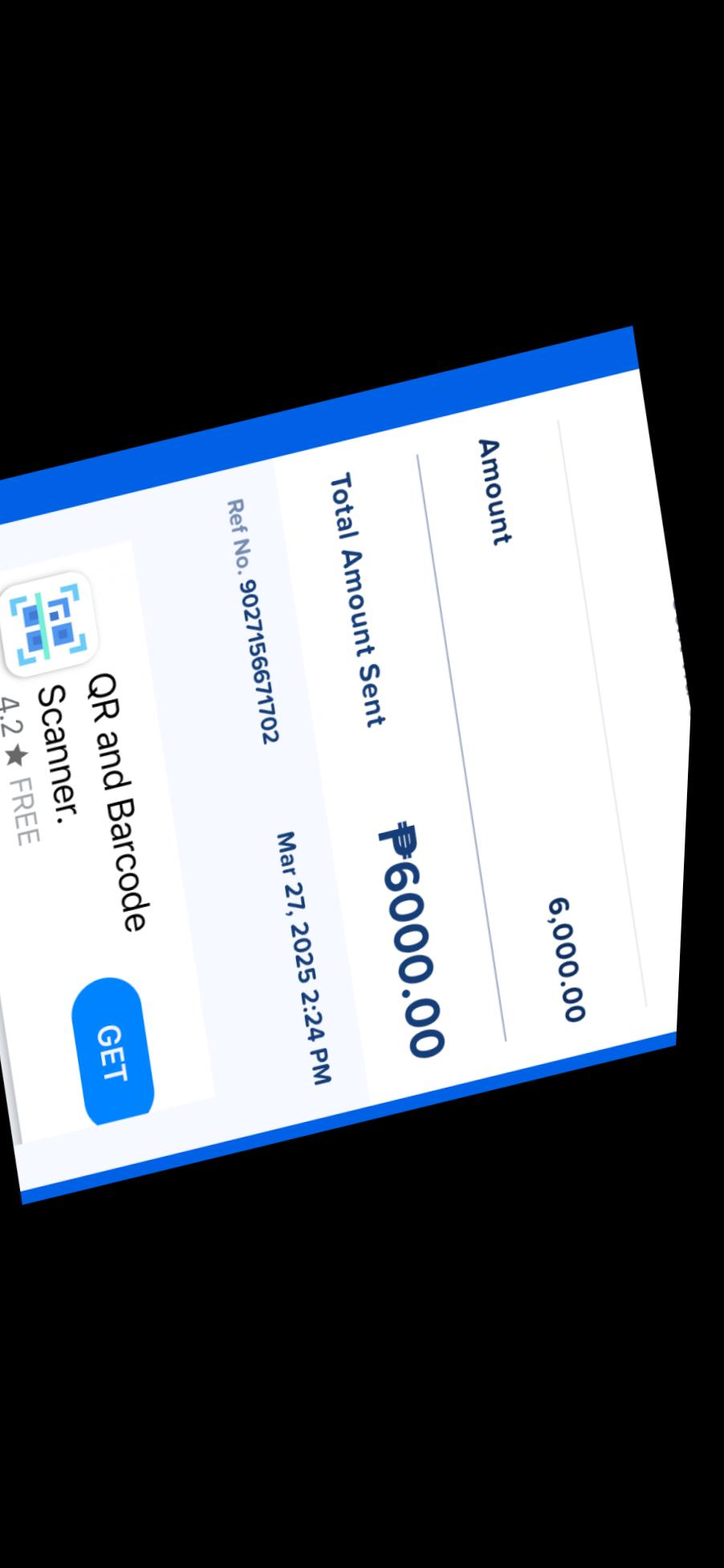Receipt: (0, 326, 691, 1205)
